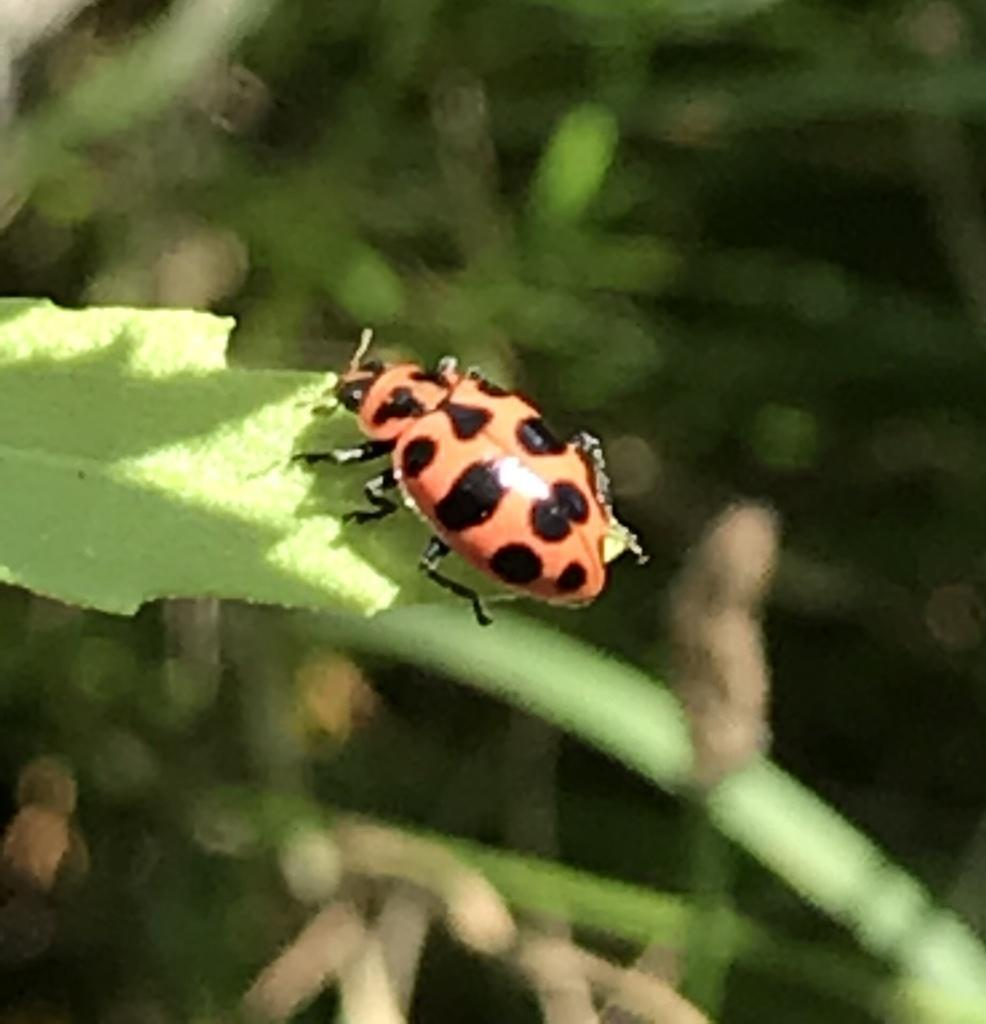ladybug: (289, 324, 616, 631)
